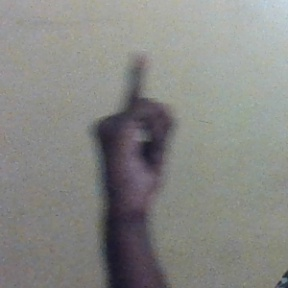I: (87, 52, 189, 217)
